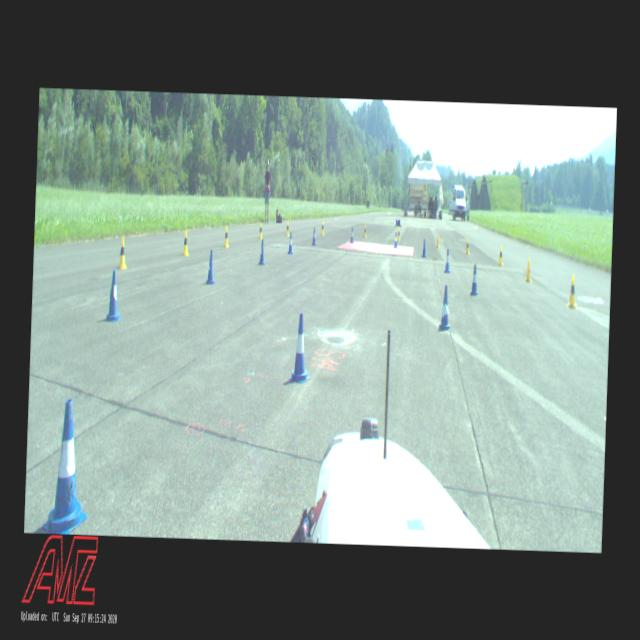blue_cone: (42, 396, 92, 534), (288, 312, 311, 383), (105, 270, 122, 322), (438, 284, 451, 330), (206, 250, 216, 284), (469, 263, 478, 295), (259, 238, 266, 264), (444, 248, 451, 272), (287, 232, 293, 254), (421, 238, 426, 256), (349, 227, 354, 242), (312, 228, 316, 245), (394, 232, 398, 248)
yellow_cone: (118, 236, 128, 268), (567, 274, 577, 306), (182, 229, 190, 255), (525, 256, 531, 282), (223, 225, 230, 247), (464, 238, 470, 254), (498, 246, 503, 264), (258, 222, 263, 239), (285, 220, 289, 237), (362, 225, 367, 238), (396, 228, 401, 240), (320, 220, 324, 234), (436, 233, 440, 247)
